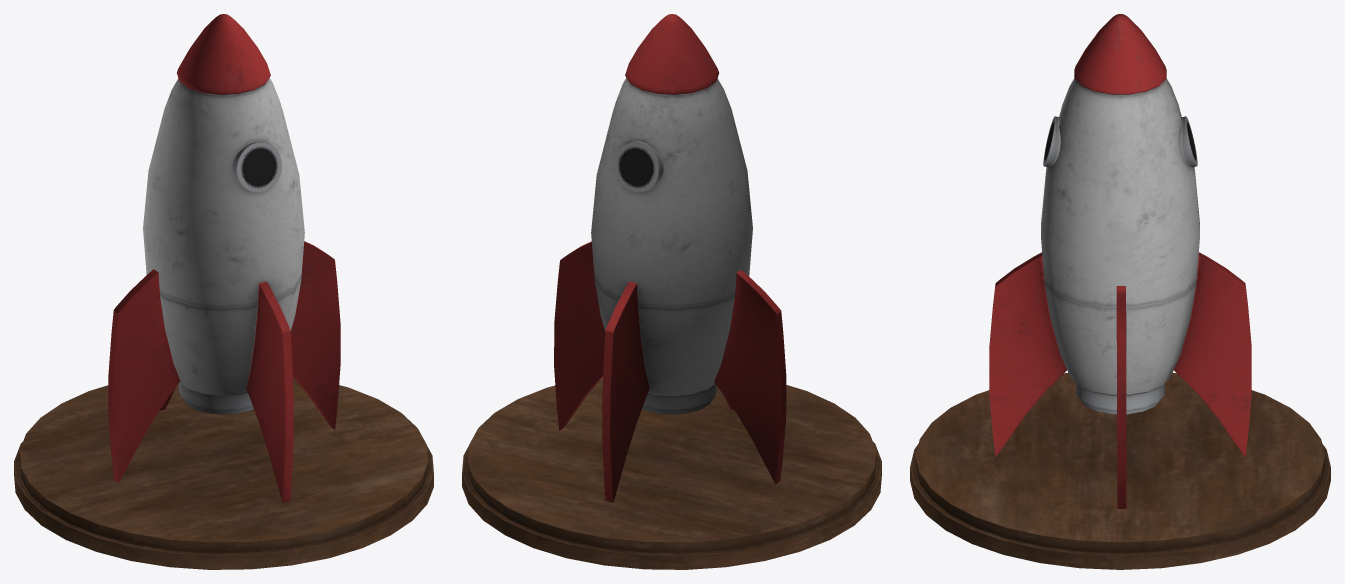
File: Rocket Toy 2.fbx
The picture shows the model from 3 angles, left to right: view 1: azimuth 30°, elevation 25°; view 2: azimuth 150°, elevation 25°; view 3: azimuth 270°, elevation 25°; orthographic projection.
Visible parts, largest first — view 1: Rocket_Toy_2; view 2: Rocket_Toy_2; view 3: Rocket_Toy_2.
Part boxes in pixels (left/top/right/bottom): Rocket_Toy_2: left=14, top=14, right=433, bottom=569; Rocket_Toy_2: left=462, top=14, right=881, bottom=569; Rocket_Toy_2: left=910, top=14, right=1330, bottom=569.
Bounding box in the file's own units: 13.89 × 16.98 × 13.89.
Materials: 1 (1 with a texture image).
